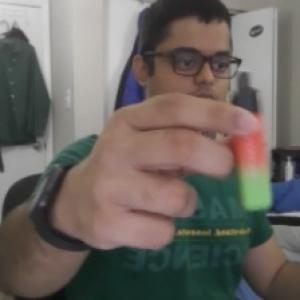Swift-E-Ciggirate: (228, 68, 279, 215)
